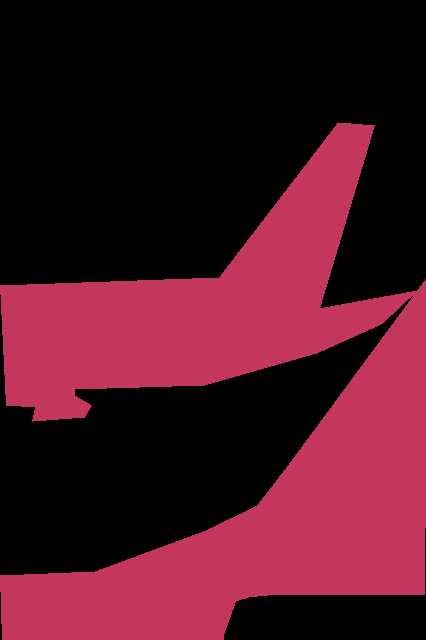Airplane: (0, 278, 426, 640), (0, 122, 417, 421)
